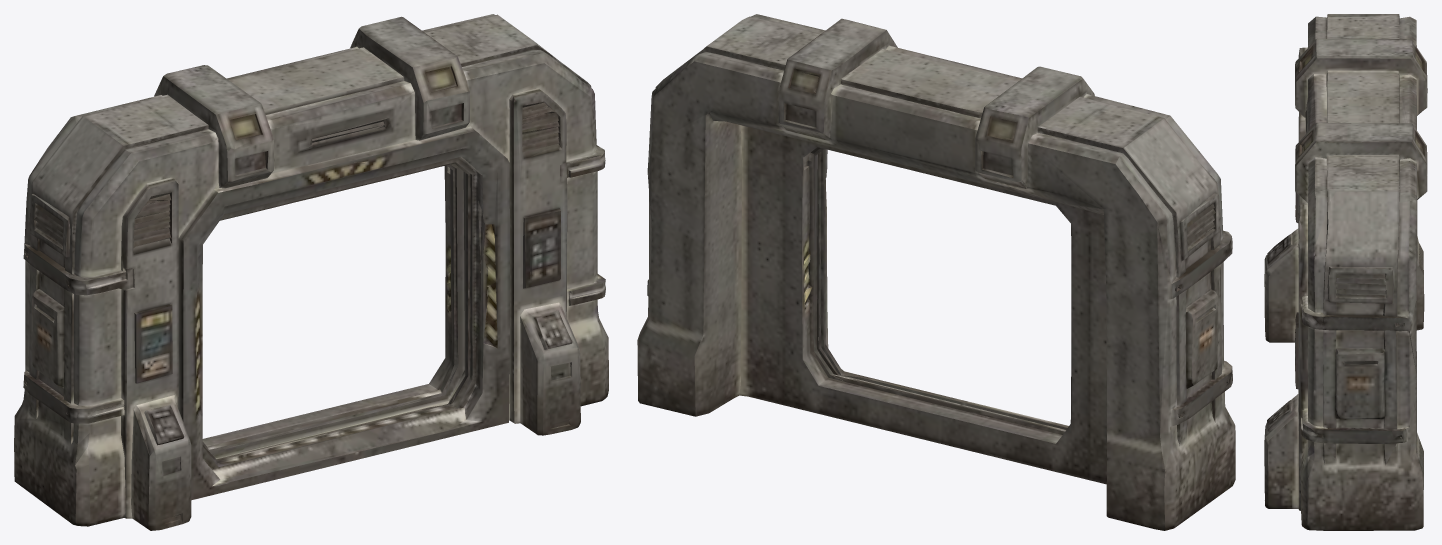
Rendered from struct.gate.glb.
The picture shows the model from 3 angles, left to right: view 1: azimuth 30°, elevation 25°; view 2: azimuth 150°, elevation 25°; view 3: azimuth 270°, elevation 25°; orthographic projection. The views are drawn at different scales.
Parts seen in each view (by area): view 1: body; view 2: body; view 3: body.
Boxes of the visible parts, x1=… form: body: x1=14, y1=14, x2=608, y2=530; body: x1=637, y1=14, x2=1235, y2=530; body: x1=1264, y1=14, x2=1427, y2=530.
Bounding box in the file's own units: 2.7 × 1.8 × 0.8118.
Materials: 1 (1 with a texture image).
